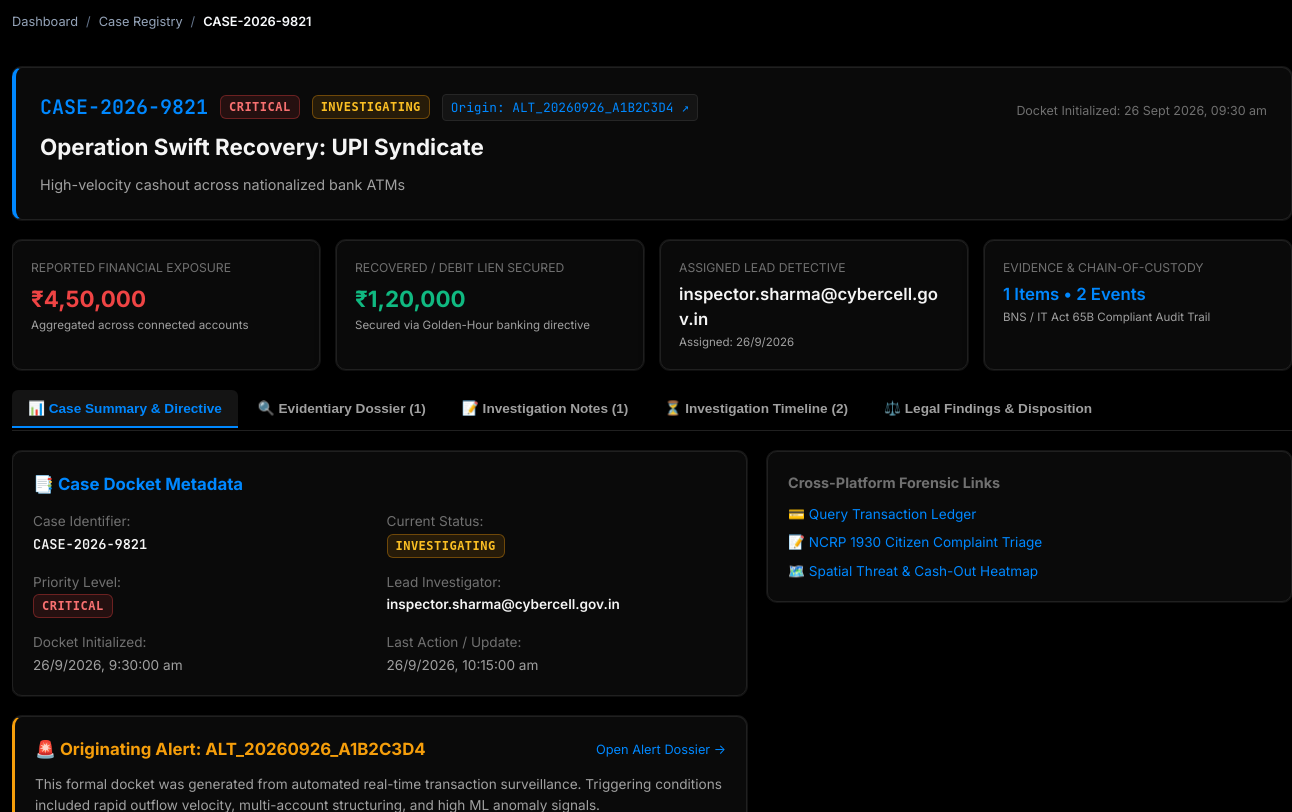
Scenario: Phase 11E Case Management & Investigation Workflow Frontend › allows switching to Notes tab and appends investigation notes
Expected: the text "CASE-2026-9821" next to "Case Registry" is shown, [203,14,312,29]
// Switch to Notes Tab
Click the button "📝 Investigation Notes (1)".
click(545, 409)  # box [446,390,644,428]
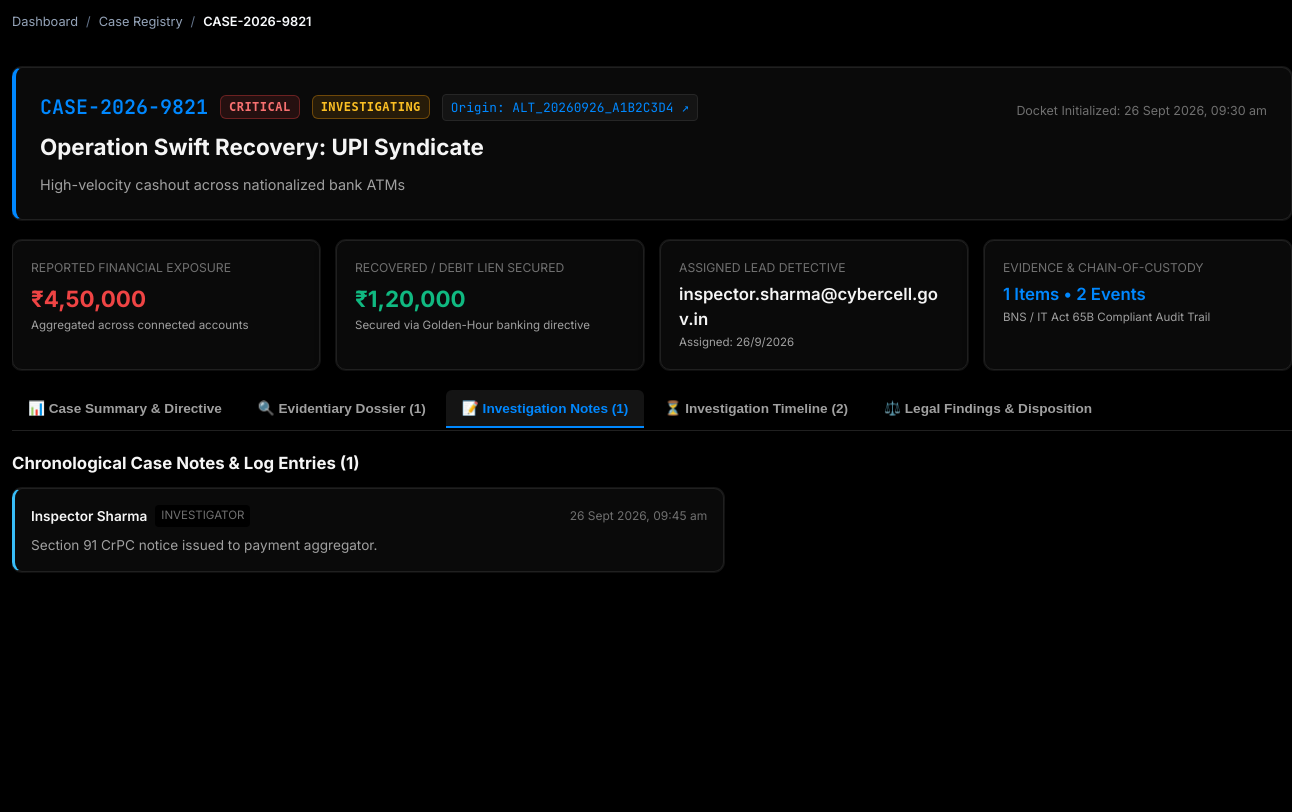
Result: the text "Section 91 CrPC notice issued to payment aggregator." is shown at [31,537,378,553]
